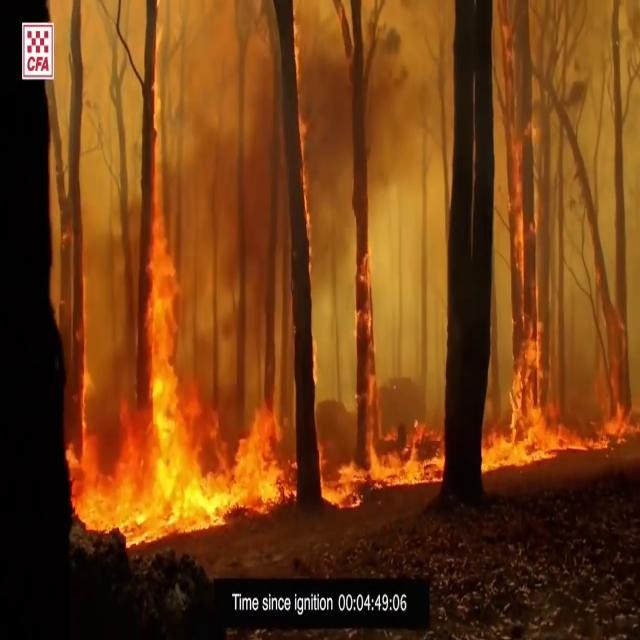Fire: (68, 397, 440, 517), (480, 328, 640, 470), (142, 188, 182, 404)
Smoke: (139, 0, 640, 373)
